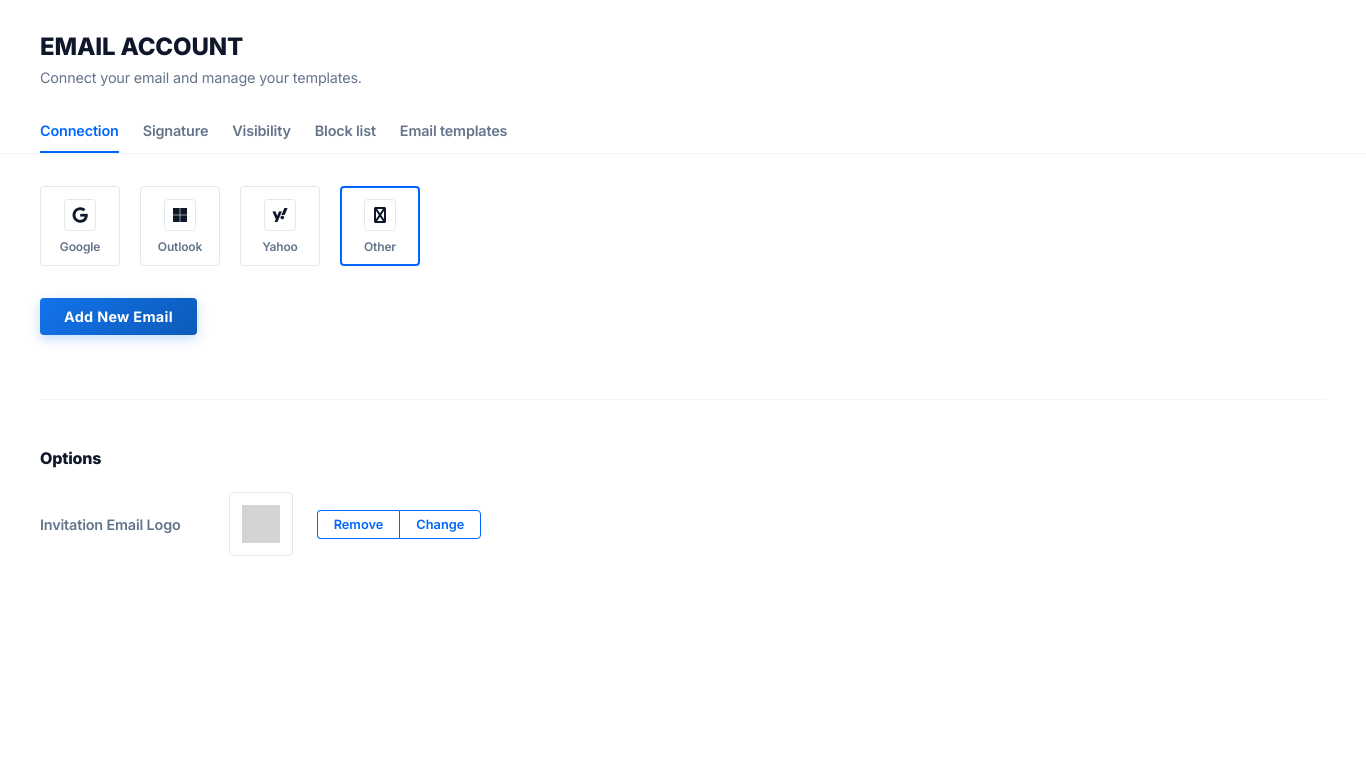
Test: EmailSettingsPage with DataTable › deletes a template from the table when delete action button is clicked
This screenshot has width=1366, height=768.
Click the text "Email templates" at (454, 130), box [400,122,507,139]
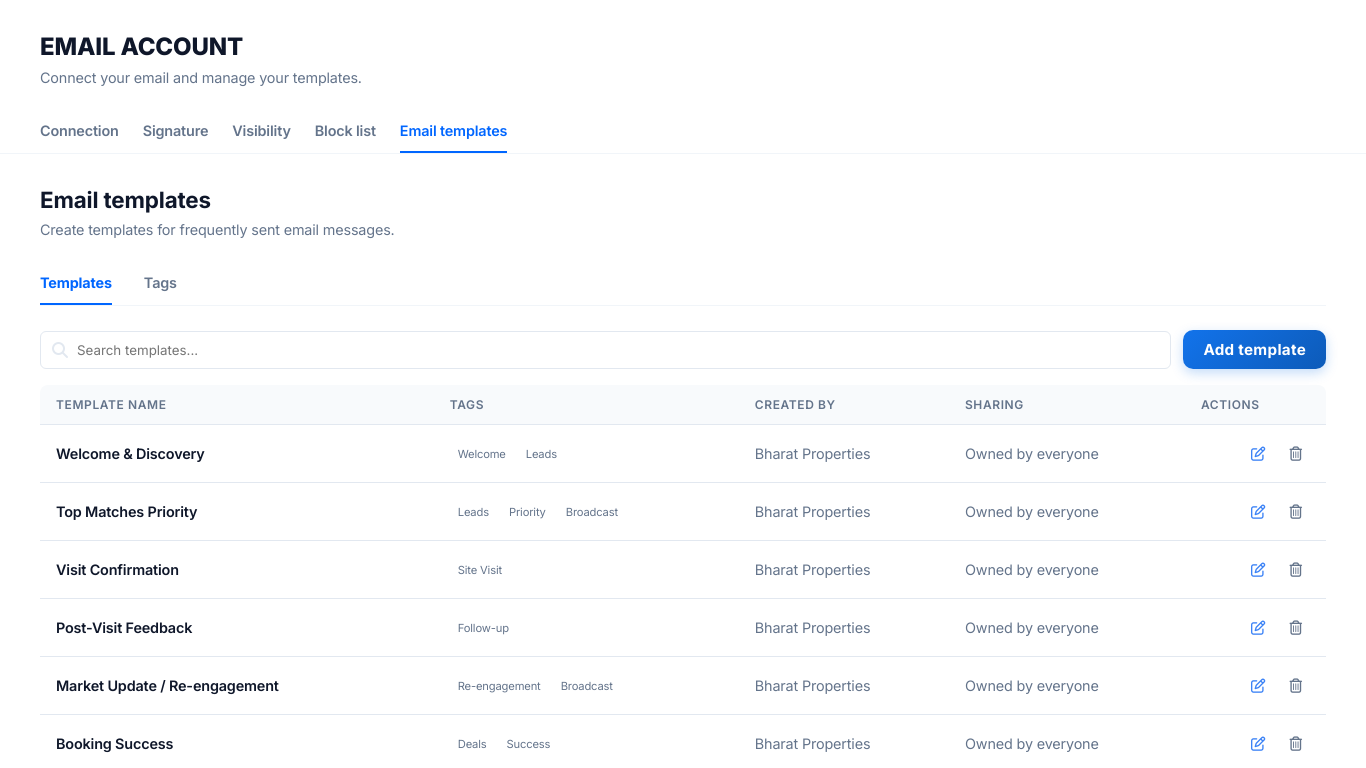
Result: the text "Welcome & Discovery" is shown at [56,445,205,462]
Click the button named "Delete Welcome & Discovery" at (1296, 454), box [1281,441,1310,466]
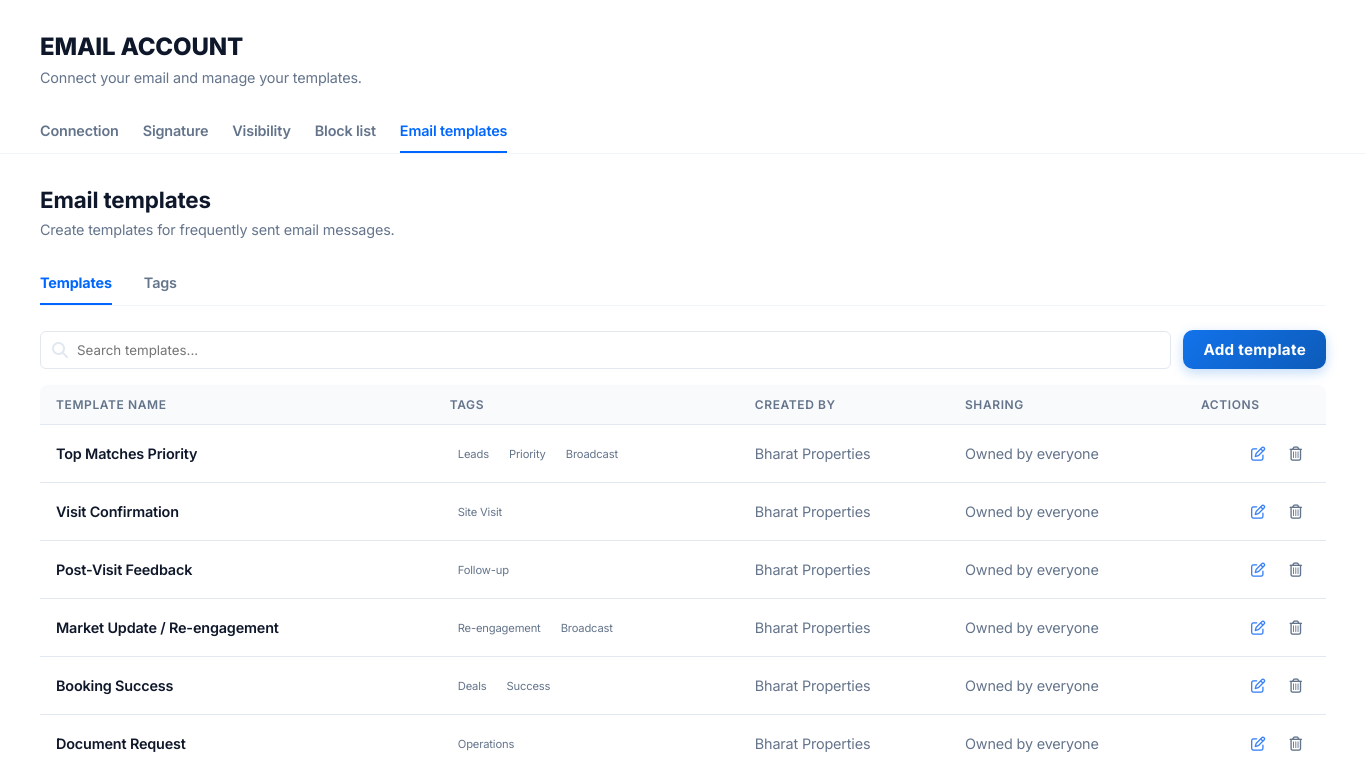
Result: the text "Welcome & Discovery" is gone
